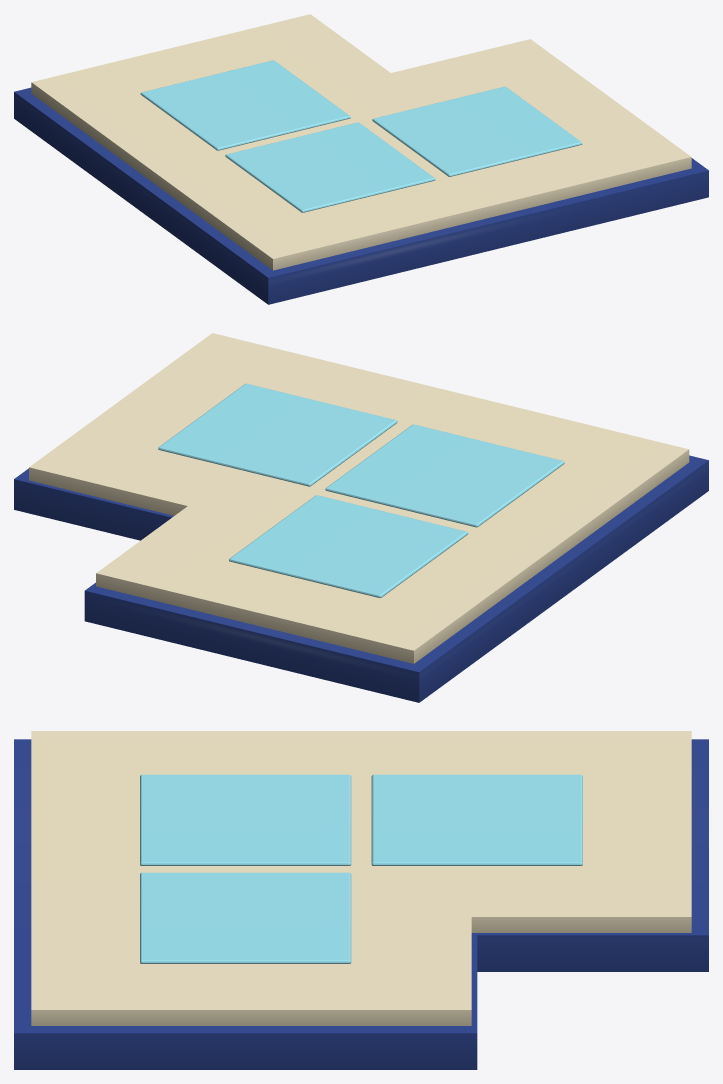
Rendered from PlotPathCorner.fbx.
3 renders of one model, top to bottom at view 1: azimuth 30°, elevation 25°; view 2: azimuth 150°, elevation 25°; view 3: azimuth 270°, elevation 25°, orthographic. The views are drawn at different scales.
Visible parts, largest first — view 1: PlotPathCorner; view 2: PlotPathCorner; view 3: PlotPathCorner.
Boxes of the visible parts, x1,y1,x2,y2 form: PlotPathCorner: [14, 14, 708, 304]; PlotPathCorner: [14, 333, 708, 702]; PlotPathCorner: [14, 731, 708, 1069].
Bounding box in the file's own units: 12 × 1.06 × 12.
Materials: 1 (1 with a texture image).
